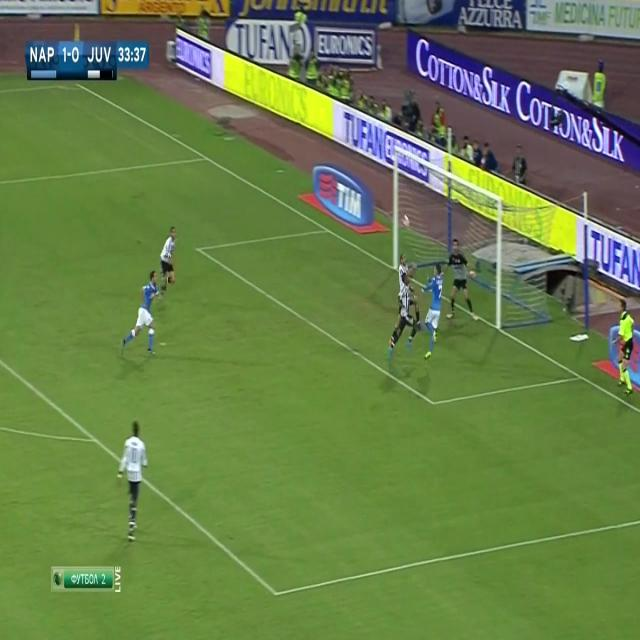Ball: (401, 210, 412, 230)
Goalkeeper: (444, 233, 486, 329)
Player: (115, 419, 147, 546), (118, 272, 161, 360), (381, 273, 419, 361), (423, 263, 446, 367), (158, 221, 180, 295), (398, 250, 419, 292)
Referee: (615, 296, 637, 398)
